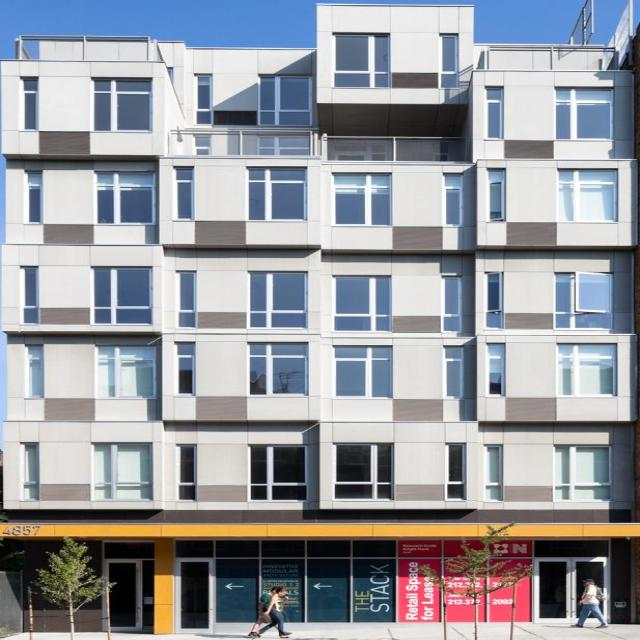Railing: (168, 130, 318, 158), (326, 138, 470, 162)
door: (536, 554, 610, 623), (107, 536, 157, 628), (181, 555, 214, 628)
plant: (33, 534, 113, 633), (449, 522, 533, 599)
wall: (0, 0, 636, 631)
windows: (93, 265, 151, 326), (244, 270, 303, 326), (331, 30, 389, 86), (332, 443, 391, 498), (551, 444, 607, 500), (91, 441, 149, 495), (555, 271, 610, 327), (333, 275, 387, 332), (247, 168, 304, 220), (556, 169, 613, 220), (95, 344, 153, 394), (248, 444, 302, 497), (92, 76, 147, 128), (557, 343, 612, 395), (328, 346, 385, 396), (246, 343, 303, 393), (99, 170, 151, 224), (556, 89, 612, 139), (330, 174, 388, 222), (258, 76, 308, 125), (439, 276, 459, 330), (444, 445, 463, 498), (174, 342, 193, 393), (19, 77, 37, 130), (485, 272, 503, 325), (173, 168, 192, 218), (439, 34, 457, 86), (176, 444, 193, 498), (440, 346, 458, 396), (482, 444, 498, 500), (175, 272, 192, 324), (21, 262, 35, 322), (21, 443, 36, 499), (485, 343, 502, 392), (25, 168, 40, 222), (22, 345, 38, 394), (487, 168, 502, 220), (443, 174, 458, 221), (194, 74, 207, 124), (486, 87, 499, 137)
